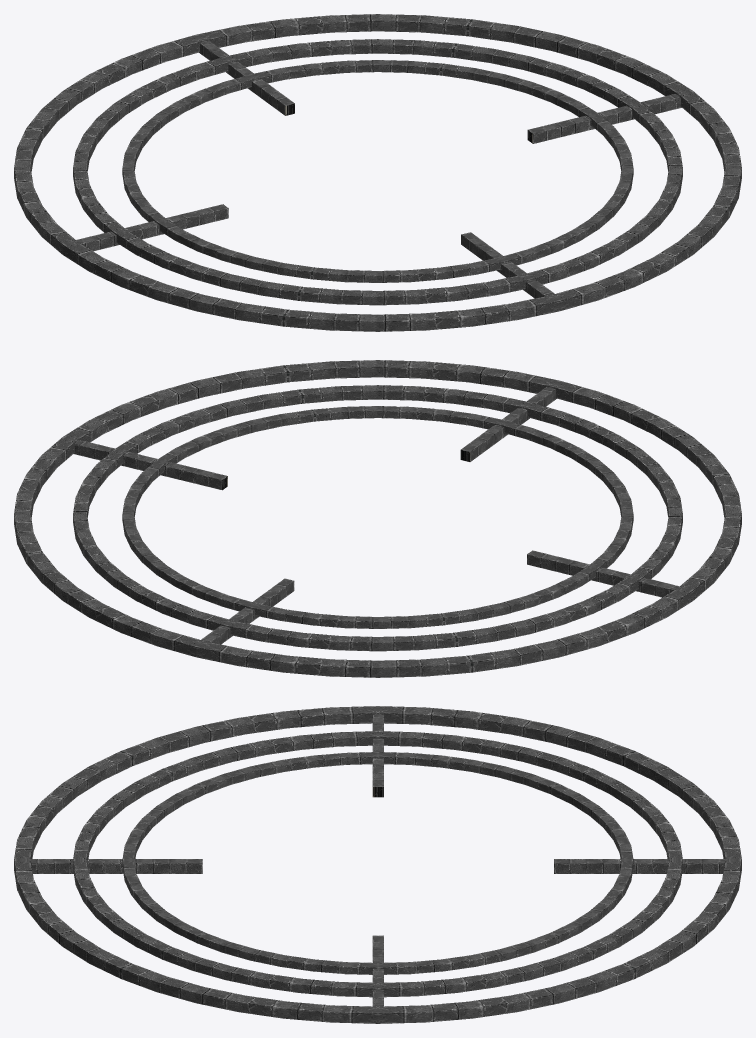
Rendered from stone_ring.FBX.
3 views of the same model, one above another, from view 1: azimuth 30°, elevation 25°; view 2: azimuth 150°, elevation 25°; view 3: azimuth 270°, elevation 25° (orthographic).
Visible parts, largest first — view 1: stone_ring_B, stone_ring_A, stone_ring, stone_ringBox010, stone_ringBox011, stone_ringBox008, stone_ring_box; view 2: stone_ring_B, stone_ring_A, stone_ring, stone_ringBox010, stone_ringBox011, stone_ring_box, stone_ringBox008; view 3: stone_ring_B, stone_ring_A, stone_ring, stone_ring_box, stone_ringBox008, stone_ringBox011, stone_ringBox010.
Boxes of the visible parts, x1,y1,x2,y2 form: stone_ring_B: (14, 14, 741, 331); stone_ring_A: (73, 39, 682, 305); stone_ring: (122, 60, 633, 282); stone_ringBox010: (527, 94, 681, 143); stone_ringBox011: (76, 204, 228, 251); stone_ringBox008: (199, 41, 294, 115); stone_ring_box: (461, 232, 554, 298); stone_ring_B: (14, 360, 741, 677); stone_ring_A: (73, 385, 682, 651); stone_ring: (122, 406, 633, 628); stone_ringBox010: (74, 440, 227, 490); stone_ringBox011: (527, 550, 679, 597); stone_ring_box: (460, 387, 556, 461); stone_ringBox008: (201, 578, 294, 644); stone_ring_B: (14, 706, 741, 1023); stone_ring_A: (73, 731, 682, 997); stone_ring: (122, 752, 633, 974); stone_ring_box: (31, 859, 202, 873); stone_ringBox008: (554, 859, 724, 873); stone_ringBox011: (372, 714, 383, 797); stone_ringBox010: (372, 935, 383, 1006).
Size of the model in its own units: 1.3 by 0.0226 by 1.3.
Materials: 1 (1 with a texture image).
